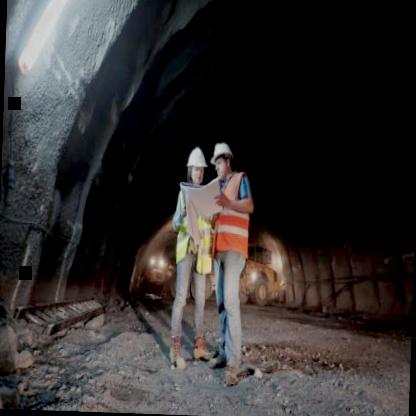helmet: (185, 144, 210, 188), (210, 138, 233, 180)
